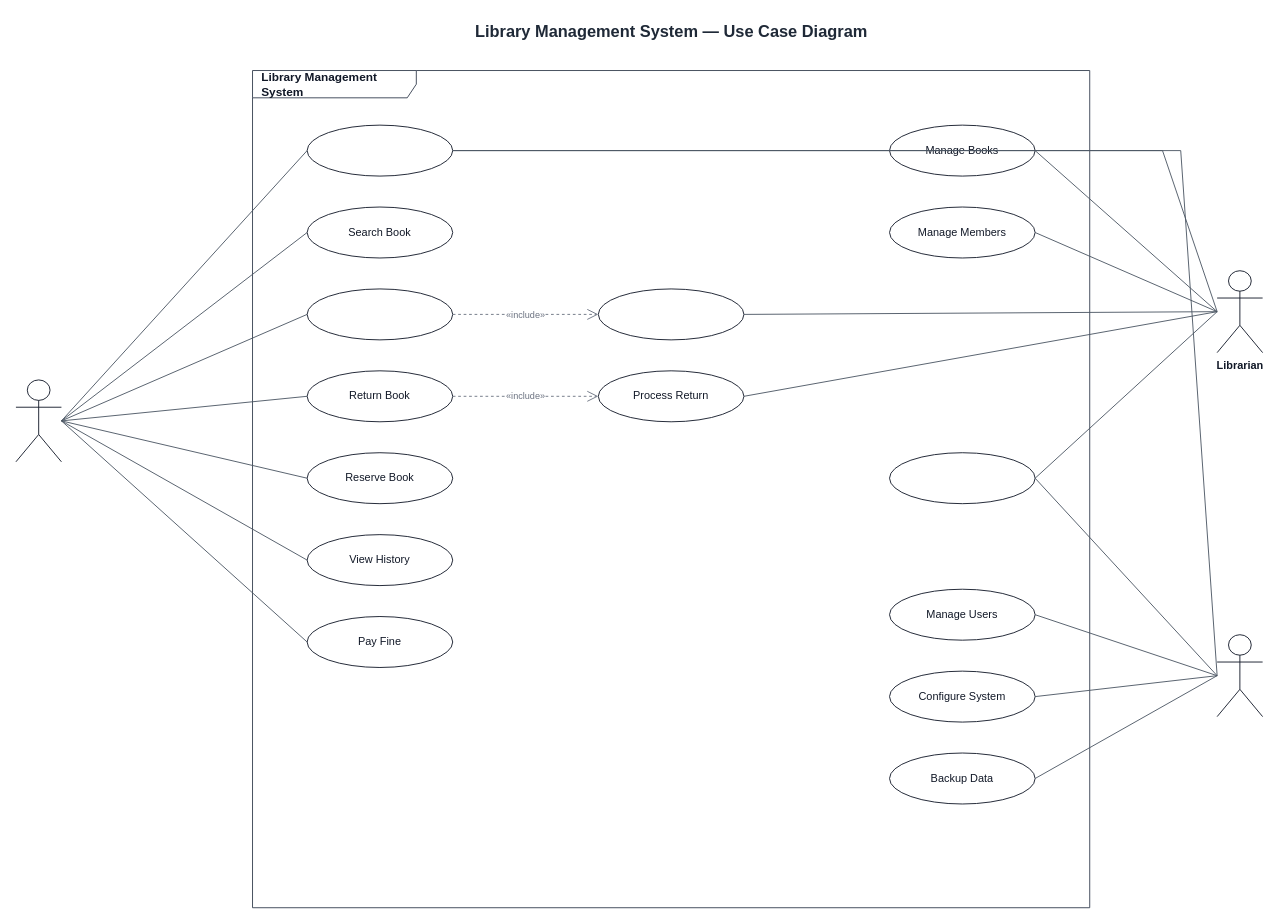
Some shapes in this 1279 by 924 pixel diagram are drawn without their labels. The shapes that lost their labels are listed below. From the top down, each one's box as (x1, y1, x2, y2) in pixels, then its label:
(306, 124, 453, 176): Login
(306, 288, 453, 340): Borrow Book
(597, 288, 744, 340): Issue Book
(15, 379, 61, 462): Member
(889, 452, 1035, 504): Generate Reports
(1216, 634, 1263, 717): Admin
